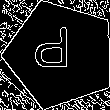P_S: (41, 29, 80, 80)
